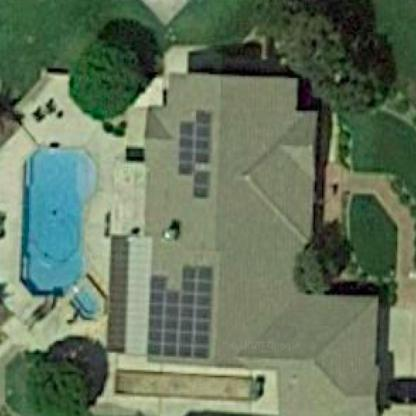solar_panel: (145, 250, 220, 367), (173, 99, 219, 202)
swimming_pool: (17, 128, 113, 331)
